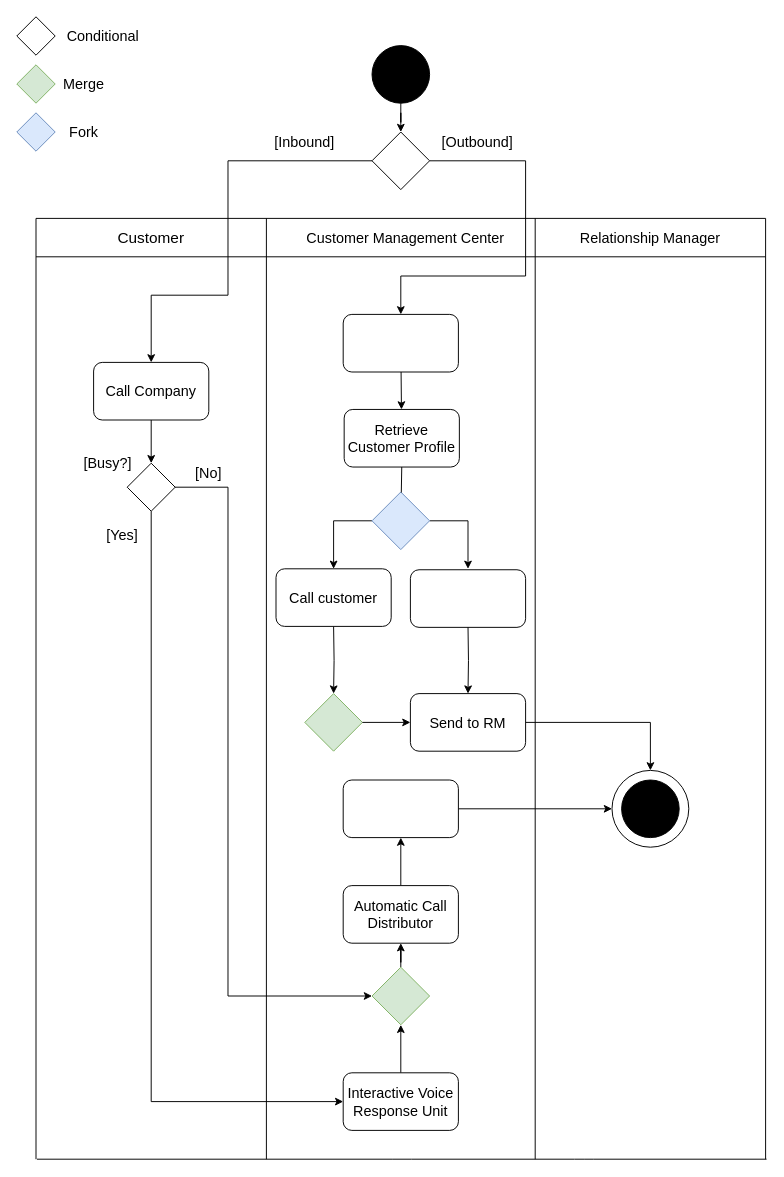
Some shapes in this 784 by 1177 pixel diagram are drawn without their labels. The box of each missing label's shape, as (x1, y1, x2, y2) in pixels:
Create Target List: (342, 313, 458, 372)
Generate Guidelines and Script: (409, 569, 526, 627)
Redirection to an RM: (342, 779, 458, 838)
